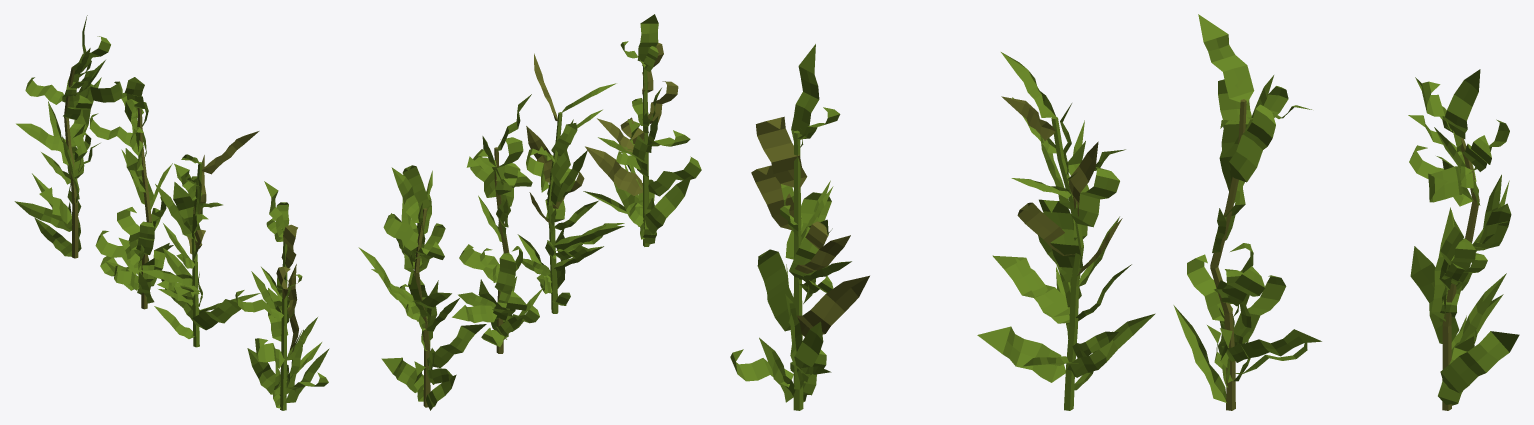
The model's file is CornPlant.glb.
3 views of the same model, side by side, from view 1: azimuth 30°, elevation 25°; view 2: azimuth 150°, elevation 25°; view 3: azimuth 270°, elevation 25° (orthographic). The views are drawn at different scales.
Parts seen in each view (by area): view 1: Corn.001, Corn.Geo.003, Corn.Geo.002, Corn.Geo.001; view 2: Corn.001, Corn.Geo.003, Corn.Geo.001, Corn.Geo.002; view 3: Corn.Geo.002, Corn.Geo.003, Corn.001, Corn.Geo.001.
Part boxes in pixels (bbox=[...]): Corn.001: bbox=[14, 15, 122, 258]; Corn.Geo.003: bbox=[235, 181, 329, 410]; Corn.Geo.002: bbox=[140, 131, 260, 347]; Corn.Geo.001: bbox=[89, 77, 173, 309]; Corn.001: bbox=[358, 165, 486, 410]; Corn.Geo.003: bbox=[583, 14, 701, 246]; Corn.Geo.001: bbox=[452, 94, 543, 353]; Corn.Geo.002: bbox=[517, 53, 624, 313]; Corn.Geo.002: bbox=[977, 52, 1155, 410]; Corn.Geo.003: bbox=[730, 44, 869, 410]; Corn.001: bbox=[1408, 69, 1519, 410]; Corn.Geo.001: bbox=[1173, 14, 1321, 410].
Size of the model in its own units: 3.74 by 7.75 by 14.61.
